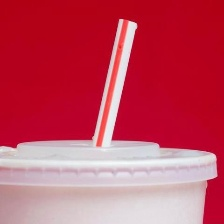drinking_straw: (85, 15, 141, 151)
glass: (0, 132, 222, 223)
